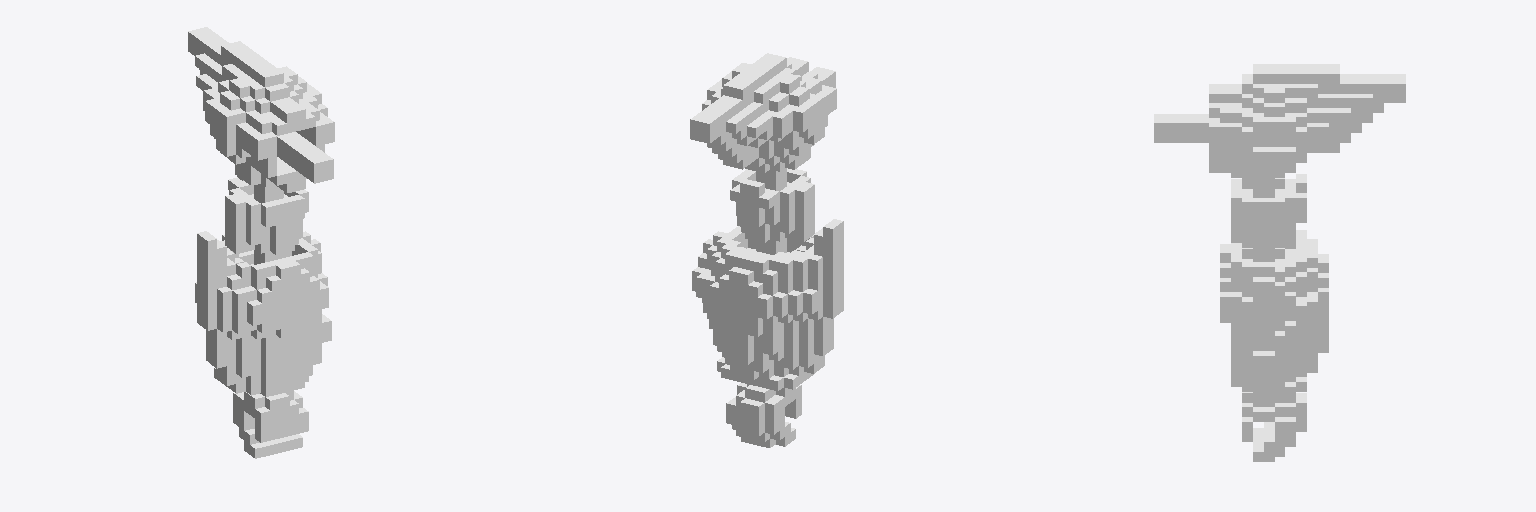
The model's file is Robot-2.obj.
The picture shows the model from 3 angles: view 1: azimuth 30°, elevation 25°; view 2: azimuth 150°, elevation 25°; view 3: azimuth 270°, elevation 25°; orthographic projection.
Visible parts, largest first — view 1: object 1; view 2: object 1; view 3: object 1.
Part boxes in pixels (left/top/right/bottom): object 1: left=188, top=27, right=334, bottom=458; object 1: left=690, top=53, right=843, bottom=447; object 1: left=1154, top=64, right=1405, bottom=461.
Bounding box in the file's own units: 1.3 × 3.8 × 2.3.